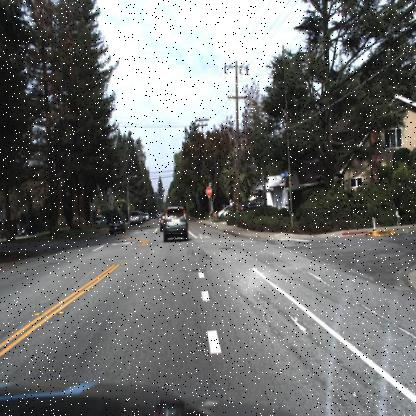car: (161, 204, 188, 246), (107, 214, 125, 237), (15, 221, 42, 236), (238, 197, 262, 213), (18, 222, 45, 236), (108, 212, 124, 235), (127, 209, 144, 227)
